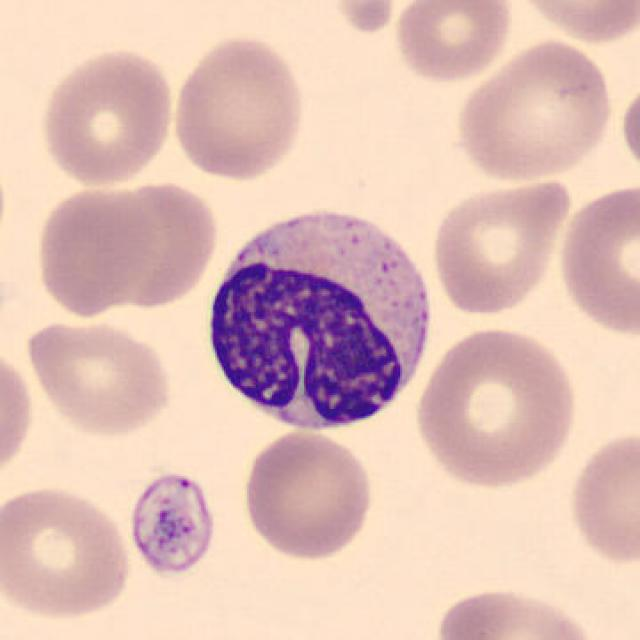Neutrophil: (195, 194, 441, 446)
Platelets: (124, 469, 220, 580)
RBC: (409, 322, 583, 493), (450, 35, 617, 184), (167, 32, 309, 183), (427, 175, 574, 318), (36, 44, 178, 189), (21, 312, 176, 439), (0, 481, 137, 624), (238, 428, 379, 562), (28, 182, 160, 319), (100, 176, 220, 312), (553, 178, 638, 342), (563, 423, 640, 571), (390, 0, 518, 85), (430, 582, 603, 640), (507, 0, 638, 46), (0, 342, 36, 488), (617, 74, 640, 187)
